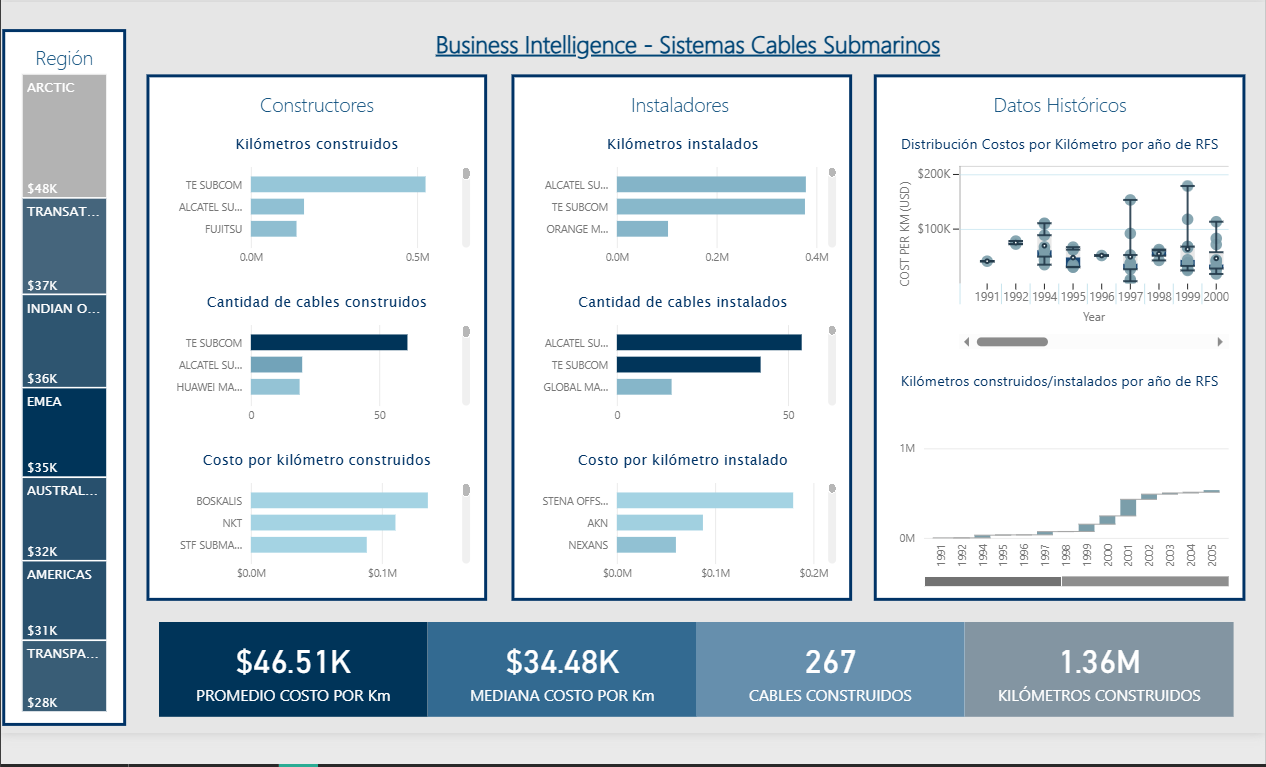

What the dashboard file says about the page in this screenshot:
{"tool":"powerbi","page":{"name":"Dashboard Principal","canvas":[1280,720],"ordinal":0},"visuals":[{"type":"basicShape","box":[0,0,128,720],"z":0},{"type":"basicShape","box":[144,48,352,544],"z":0},{"type":"basicShape","box":[513.1,48,352,544],"z":0},{"type":"basicShape","box":[880,48,384,544],"z":0},{"type":"card","fields":{"Values":["Medidas.AVERAGE COST PER KM (USD)"]},"box":[160,608,272,96],"z":19},{"type":"card","fields":{"Values":["Medidas.MEDIAN COST PER KM (USD)"]},"box":[432,608,272,96],"z":19},{"type":"card","fields":{"Values":["Medidas.TOTAL CONSTRUCTED/INSTALLED CABLES"]},"box":[704,608,272,96],"z":19},{"type":"card","fields":{"Values":["Medidas.TOTAL CONSTRUCTED/INSTALLED KILOMETERS"]},"box":[976,608,272,96],"z":19},{"type":"clusteredBarChart","fields":{"Category":["BD_System Supplier.SYSTEM SUPPLIER"],"Y":["Sum(BD_Basic Information.LENGTH (km))"],"Gradient":["Medidas.COSTO POR KM (USD)"]},"box":[160,112,320,144],"z":1000},{"type":"clusteredBarChart","fields":{"Category":["BD_System Installer.SYSTEM INSTALLER"],"Y":["Sum(BD_Basic Information.LENGTH (km))"],"Gradient":["Medidas.COSTO POR KM (USD)"]},"box":[530.9,112.5,320,144],"z":1000},{"type":"clusteredBarChart","fields":{"Category":["BD_System Supplier.SYSTEM SUPPLIER"],"Gradient":["Sum(BD_Basic Information.LENGTH (km))"],"Y":["CountNonNull(BD_Basic Information.COMPLETE NAME)"]},"box":[160,272,320,144],"z":2000},{"type":"clusteredBarChart","fields":{"Category":["BD_System Installer.SYSTEM INSTALLER"],"Gradient":["Sum(BD_Basic Information.LENGTH (km))"],"Y":["CountNonNull(BD_Basic Information.COMPLETE NAME)"]},"box":[530.9,272.5,320,144],"z":2000},{"type":"clusteredBarChart","fields":{"Category":["BD_System Supplier.SYSTEM SUPPLIER"],"Y":["Medidas.COSTO POR KM (USD)"],"Gradient":["CountNonNull(BD_Basic Information.COMPLETE NAME)"]},"box":[160,432,320,144],"z":2000},{"type":"clusteredBarChart","fields":{"Category":["BD_System Installer.SYSTEM INSTALLER"],"Y":["Medidas.COSTO POR KM (USD)"],"Gradient":["CountNonNull(BD_Basic Information.COMPLETE NAME)"]},"box":[530.9,432.5,320,144],"z":2000},{"type":"BoxandWhiskerByMAQ1823AD39DT234AB532063E128AX","fields":{"categoryGroup":["BD_Basic Information.READY FOR SERVICE (RFS).Variation.Date Hierarchy.Year"],"category":["BD_Basic Information.COMPLETE NAME"],"measure":["Medidas.COSTO POR KM (USD)"]},"box":[896,112,352,224],"z":7000},{"type":"treemap","fields":{"Group":["BD_Region.REGION"],"Values":["Medidas.COSTO POR KM (USD)"],"Gradient":["Sum(BD_Basic Information.LENGTH (km))"]},"box":[16,48,96,656],"z":8000},{"type":"waterfallChart","fields":{"Y":["Sum(BD_Basic Information.LENGTH (km))"],"Category":["BD_Basic Information.READY FOR SERVICE (RFS).Variation.Date Hierarchy.Year"]},"box":[896,352,352,224],"z":9000},{"type":"textbox","box":[128,0,1136,48],"z":10000},{"type":"textbox","box":[0,16,128,48],"z":10000},{"type":"textbox","box":[240,64,160,64],"z":10000},{"type":"textbox","box":[608,64,160,64],"z":10000},{"type":"textbox","box":[992,64,160,48],"z":10000}]}

Visuals, with their boxes in screenshot pixels (x1, y1, x2, y2):
basicShape: (0, 26, 125, 729)
basicShape: (140, 73, 484, 604)
basicShape: (500, 73, 844, 604)
basicShape: (858, 73, 1233, 604)
card - Medidas.AVERAGE COST PER KM (USD): (156, 619, 421, 713)
card - Medidas.MEDIAN COST PER KM (USD): (421, 619, 687, 713)
card - Medidas.TOTAL CONSTRUCTED/INSTALLED CABLES: (687, 619, 952, 713)
card - Medidas.TOTAL CONSTRUCTED/INSTALLED KILOMETERS: (952, 619, 1217, 713)
clusteredBarChart - BD_System Supplier.SYSTEM SUPPLIER x Sum(BD_Basic Information.LENGTH (km)): (156, 136, 468, 276)
clusteredBarChart - BD_System Installer.SYSTEM INSTALLER x Sum(BD_Basic Information.LENGTH (km)): (518, 136, 830, 277)
clusteredBarChart - BD_System Supplier.SYSTEM SUPPLIER x Sum(BD_Basic Information.LENGTH (km)): (156, 292, 468, 432)
clusteredBarChart - BD_System Installer.SYSTEM INSTALLER x Sum(BD_Basic Information.LENGTH (km)): (518, 292, 830, 433)
clusteredBarChart - BD_System Supplier.SYSTEM SUPPLIER x Medidas.COSTO POR KM (USD): (156, 448, 468, 588)
clusteredBarChart - BD_System Installer.SYSTEM INSTALLER x Medidas.COSTO POR KM (USD): (518, 448, 830, 589)
BoxandWhiskerByMAQ1823AD39DT234AB532063E128AX - BD_Basic Information.READY FOR SERVICE (RFS).Variation.Date Hierarchy.Year x BD_Basic Information.COMPLETE NAME: (874, 136, 1217, 354)
treemap - BD_Region.REGION x Medidas.COSTO POR KM (USD): (16, 73, 109, 713)
waterfallChart - Sum(BD_Basic Information.LENGTH (km)) x BD_Basic Information.READY FOR SERVICE (RFS).Variation.Date Hierarchy.Year: (874, 370, 1217, 588)
textbox: (125, 26, 1233, 73)
textbox: (0, 42, 125, 89)
textbox: (234, 89, 390, 151)
textbox: (593, 89, 749, 151)
textbox: (968, 89, 1124, 136)
